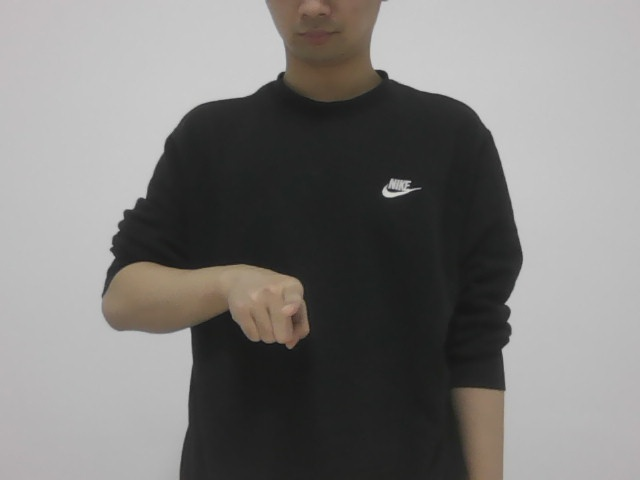you/your/this: (216, 256, 318, 354)
